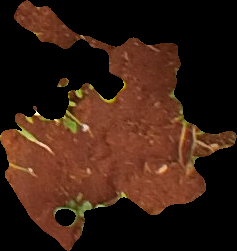soil: (1, 1, 236, 251)
